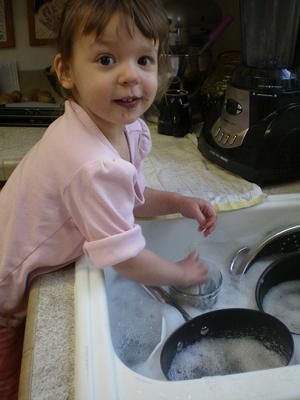person: (1, 1, 222, 400)
